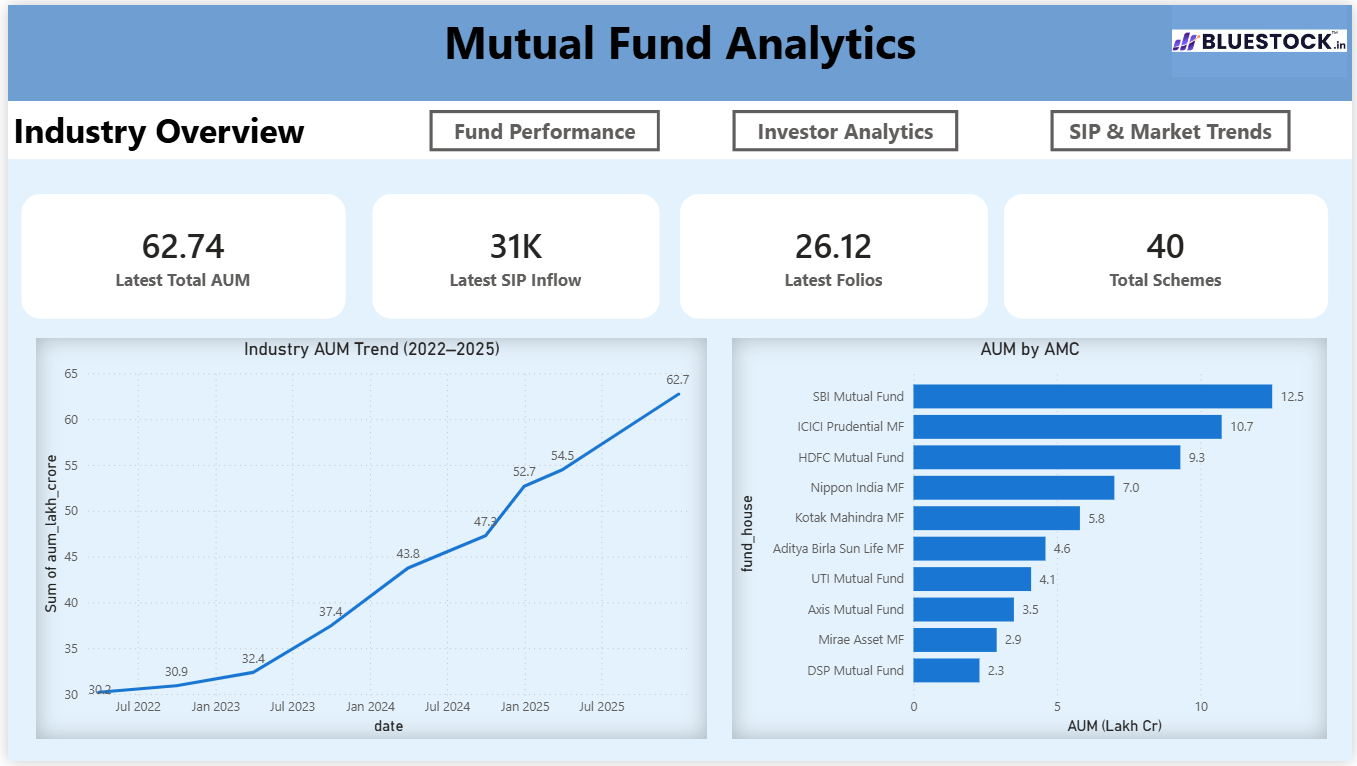

Layout of this report page (visuals, bound fields, positions):
{"tool":"powerbi","page":{"name":"Industry Overview","canvas":[1280,720],"ordinal":0},"visuals":[{"type":"cardVisual","fields":{"Data":["03_aum_by_fund_house.Latest Total AUM"]},"box":[13.3,180,308.3,118.3],"z":0},{"type":"cardVisual","fields":{"Data":["04_monthly_sip_inflows.Latest SIP Inflow"]},"box":[346.7,180,273.3,118.3],"z":1000},{"type":"cardVisual","fields":{"Data":["06_industry_folio_count.Latest Folios"]},"box":[640,180,293.3,118.3],"z":2000},{"type":"cardVisual","fields":{"Data":["01_fund_master.Total Schemes"]},"box":[948.3,180,308.3,118.3],"z":3000},{"type":"lineChart","title":"Industry AUM Trend (2022–2025)","fields":{"Y":["Sum(03_aum_by_fund_house.aum_lakh_crore)"],"Category":["03_aum_by_fund_house.date"]},"box":[26.7,316.7,638.3,381.7],"z":4000},{"type":"clusteredBarChart","title":"AUM by AMC","fields":{"Category":["03_aum_by_fund_house.fund_house"],"Y":["Sum(03_aum_by_fund_house.aum_lakh_crore)"]},"box":[690,316.7,566.7,381.7],"z":5000},{"type":"textbox","box":[0,0,1280,91.7],"z":6000},{"type":"textbox","box":[0,91.7,1280,55],"z":7000},{"type":"image","box":[1108.3,0,166.7,68.3],"z":8000},{"type":"actionButton","box":[401.3,99.9,219.6,39.4],"z":9000},{"type":"actionButton","box":[690.5,99.9,215,39.4],"z":10000},{"type":"actionButton","box":[993.3,99.9,228.6,39.4],"z":11000}]}

Visuals, with their boxes in screenshot pixels (x1, y1, x2, y2), scaled from the page's 1280x720 canvas onto the 1357x766 screenshot:
cardVisual - 03_aum_by_fund_house.Latest Total AUM: pyautogui.locateOnScreen(14, 192, 341, 317)
cardVisual - 04_monthly_sip_inflows.Latest SIP Inflow: pyautogui.locateOnScreen(368, 192, 657, 317)
cardVisual - 06_industry_folio_count.Latest Folios: pyautogui.locateOnScreen(678, 192, 989, 317)
cardVisual - 01_fund_master.Total Schemes: pyautogui.locateOnScreen(1005, 192, 1332, 317)
"Industry AUM Trend (2022–2025)" lineChart: pyautogui.locateOnScreen(28, 337, 705, 743)
"AUM by AMC" clusteredBarChart: pyautogui.locateOnScreen(732, 337, 1332, 743)
textbox: pyautogui.locateOnScreen(0, 0, 1356, 98)
textbox: pyautogui.locateOnScreen(0, 98, 1356, 156)
image: pyautogui.locateOnScreen(1175, 0, 1352, 73)
actionButton: pyautogui.locateOnScreen(425, 106, 658, 148)
actionButton: pyautogui.locateOnScreen(732, 106, 960, 148)
actionButton: pyautogui.locateOnScreen(1053, 106, 1295, 148)
